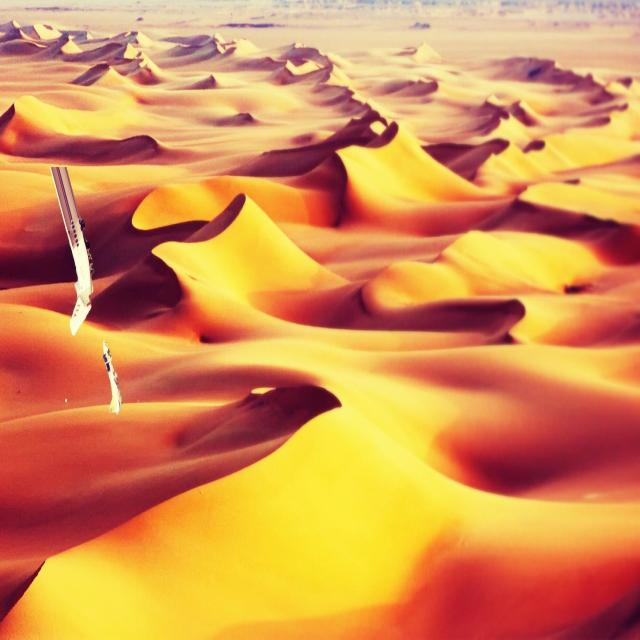airplane: (49, 164, 93, 338), (102, 342, 122, 415)
